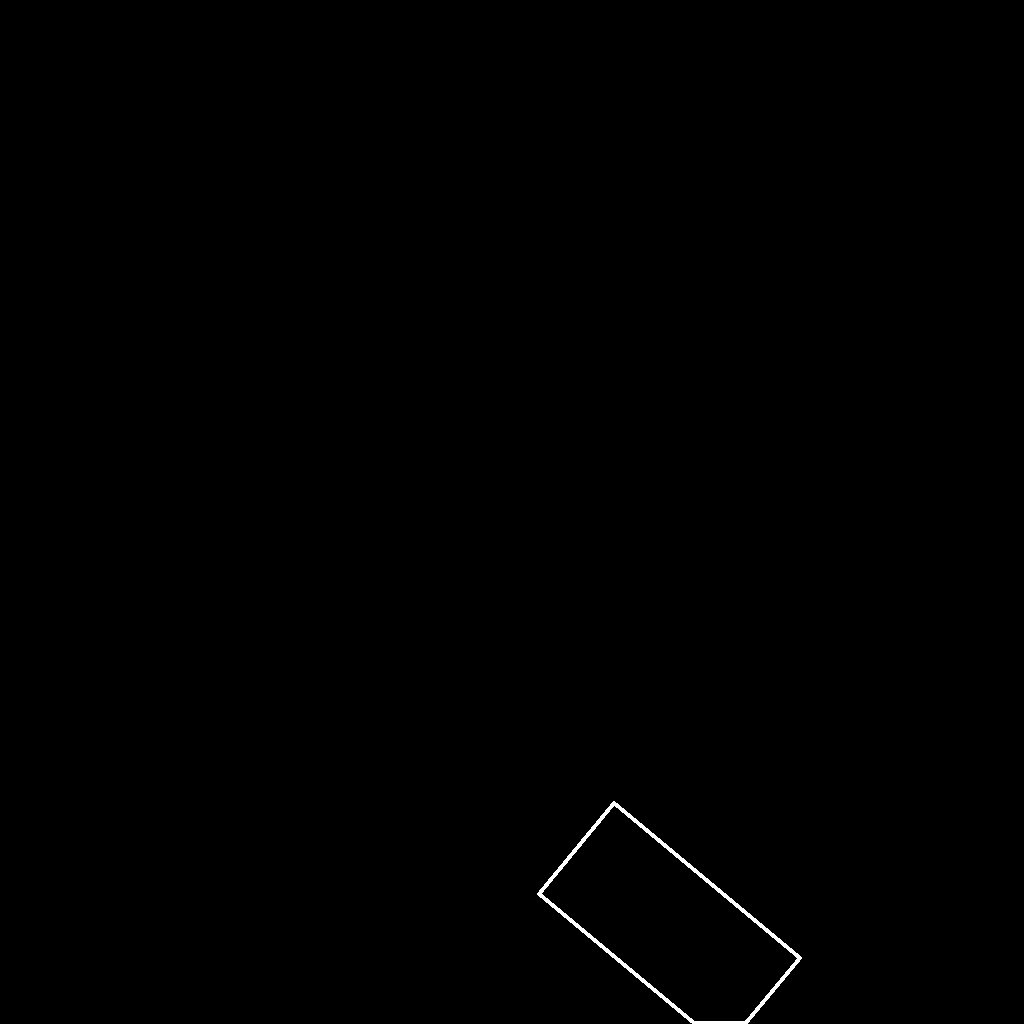building: (539, 803, 801, 1024)
